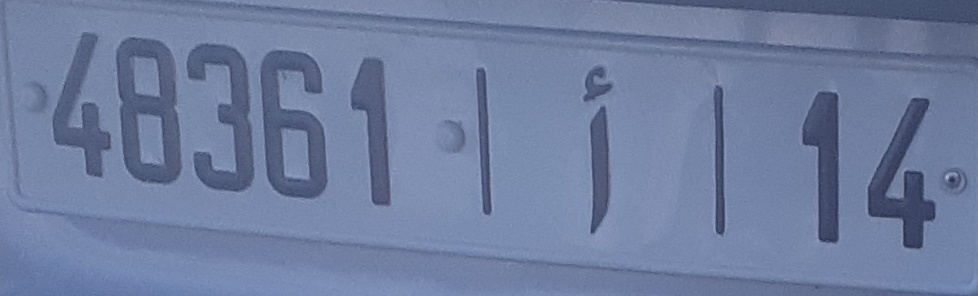1: (793, 85, 851, 243), (345, 53, 397, 207)
3: (182, 42, 257, 194)
4: (863, 93, 940, 251), (45, 29, 115, 179)
6: (259, 49, 332, 202)
8: (112, 33, 186, 188)
a: (573, 63, 619, 237)
